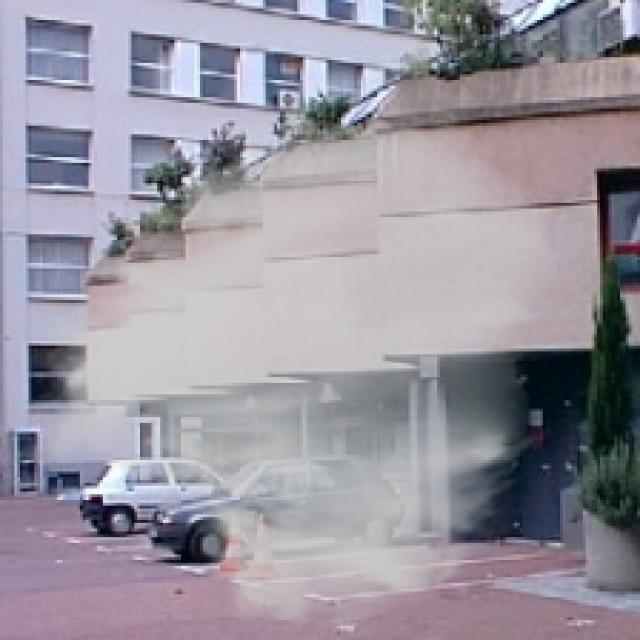smoke: (26, 109, 563, 632)
